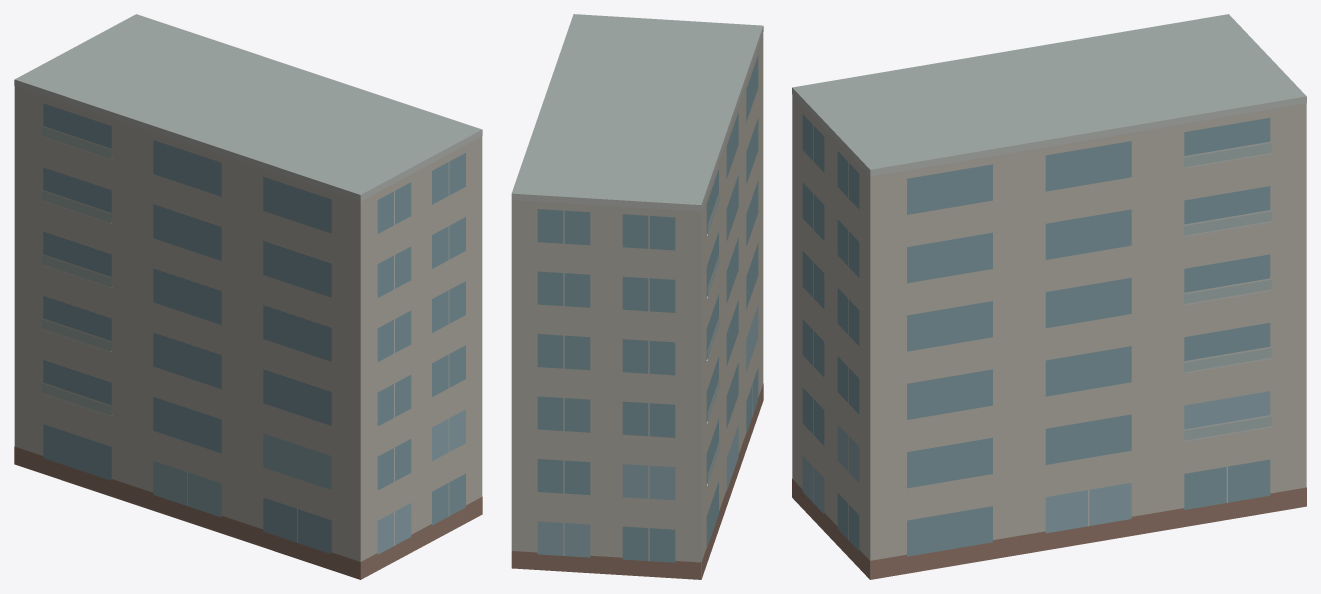
File: survey-upis-32947219.glb
The picture shows the model from 3 angles, left to right: view 1: azimuth 30°, elevation 25°; view 2: azimuth 150°, elevation 25°; view 3: azimuth 270°, elevation 25°; orthographic projection. The views are drawn at different scales.
Visible parts, largest first — view 1: survey-upis-32947219.tmp; view 2: survey-upis-32947219.tmp; view 3: survey-upis-32947219.tmp.
Boxes of the visible parts, x1,y1,x2,y2 form: survey-upis-32947219.tmp: (14, 14, 482, 579); survey-upis-32947219.tmp: (511, 14, 763, 579); survey-upis-32947219.tmp: (792, 14, 1306, 579).
Size of the model in its own units: 11.82 by 14.5 by 16.5.
